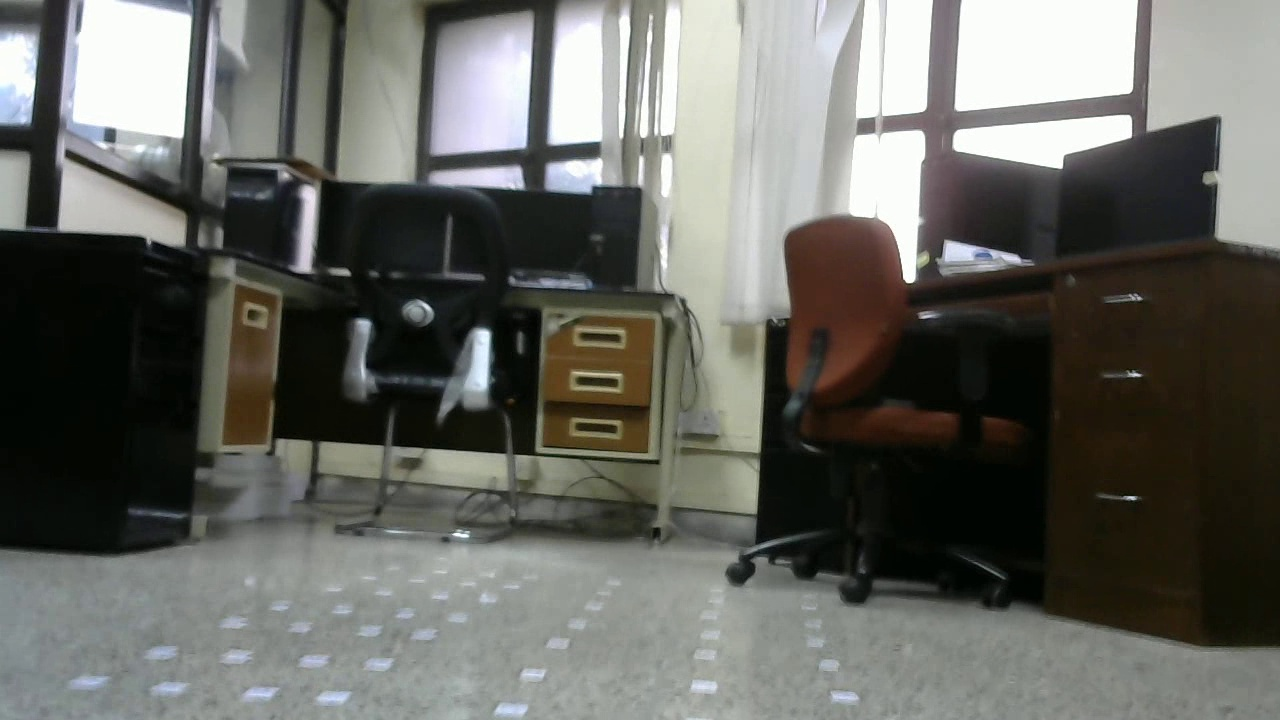chair: (717, 211, 1022, 610), (326, 185, 526, 545)
